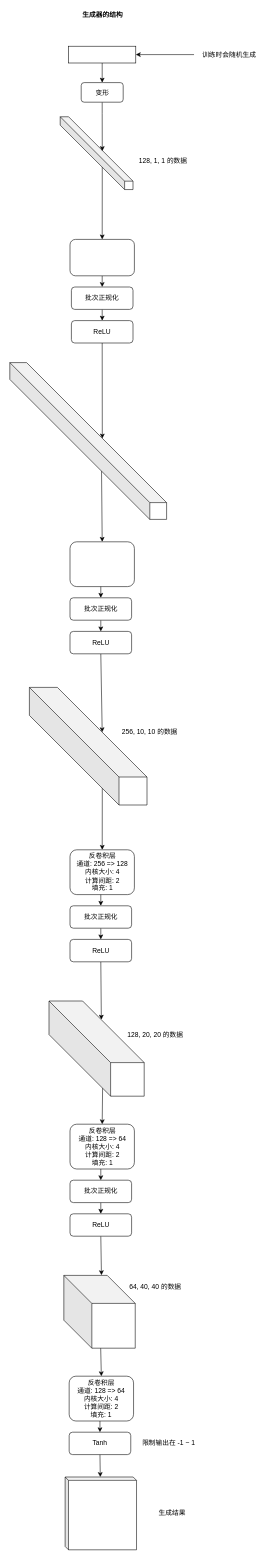
This 274x1560 diagram has some shape labels left out. Here are the shapes that lost their labels. From the top down, the centre of each, then its label:
At point 102,54: "长度 128 的向量".
At point 101,257: "反卷积层 通道: 128 => 512 内核大小: 5 计算间距: 1".
At point 88,440: "512, 5, 5 的数据".
At point 101,564: "反卷积层 通道: 512 => 256 内核大小: 4 计算间距: 2 填充: 1".
At point 101,1513: "3, 80, 80 的数据".
